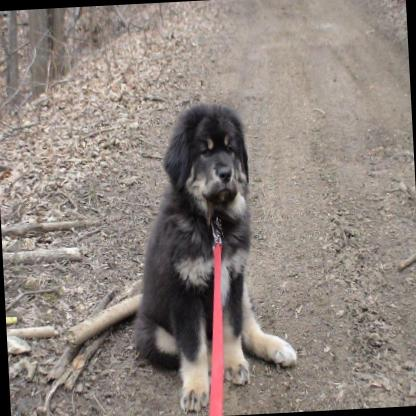Tibetan_mastiff: (117, 95, 300, 416)
